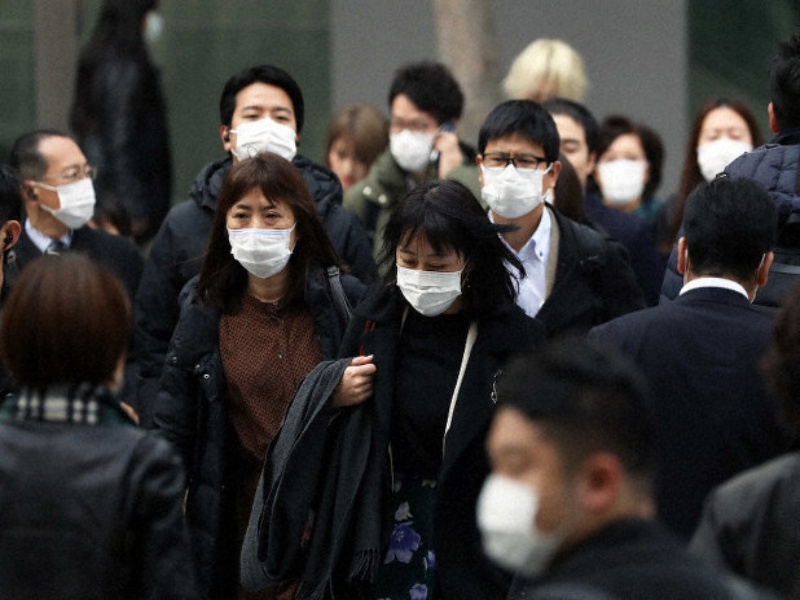ManaoArotava: (459, 355, 596, 576), (214, 147, 322, 299), (383, 197, 483, 333), (214, 73, 325, 186), (465, 102, 559, 231), (9, 124, 111, 241)
